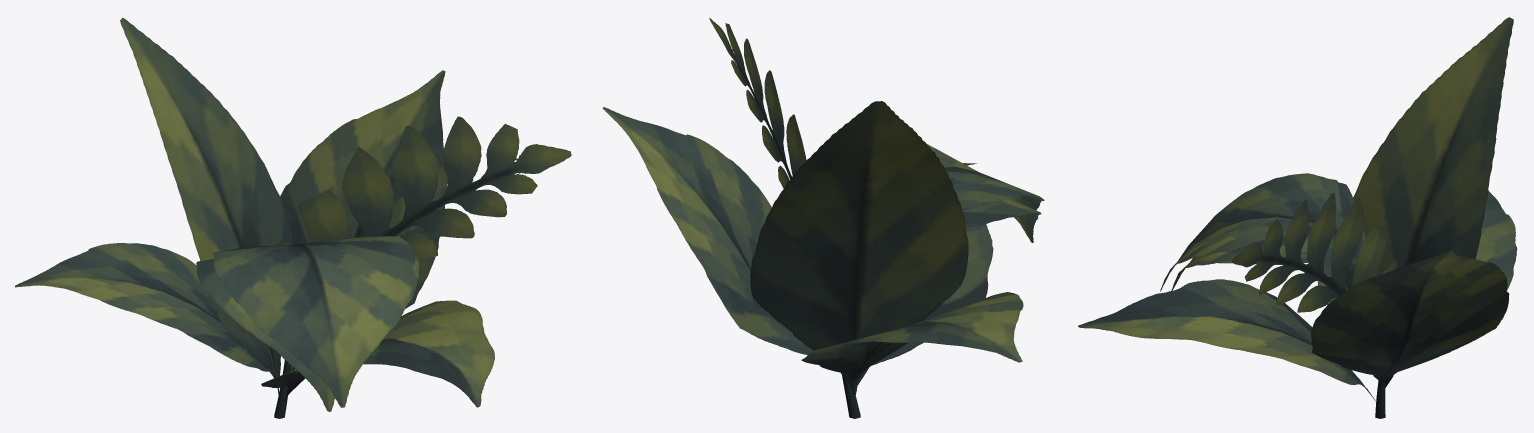
File: SM_FR_BushFern.fbx
The picture shows the model from 3 angles, left to right: view 1: azimuth 30°, elevation 25°; view 2: azimuth 150°, elevation 25°; view 3: azimuth 270°, elevation 25°; orthographic projection. The views are drawn at different scales.
Parts seen in each view (by area): view 1: SM_FR_BushFern; view 2: SM_FR_BushFern; view 3: SM_FR_BushFern.
Boxes of the visible parts, x1,y1,x2,y2 form: SM_FR_BushFern: (15, 17, 571, 418); SM_FR_BushFern: (602, 18, 1044, 418); SM_FR_BushFern: (1078, 17, 1517, 418).
Bounding box in the file's own units: 1.55 × 1.28 × 1.44.
1 material, 1 textured.
